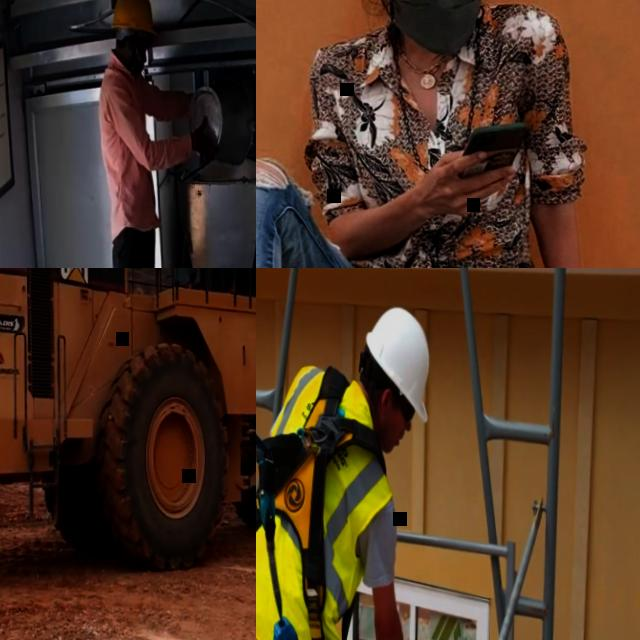Hardhat: (365, 304, 430, 420), (108, 0, 157, 36)
Mask: (389, 0, 479, 52), (131, 46, 144, 75)
NO-Mask: (382, 412, 401, 452)
NO-Safety Vest: (339, 26, 539, 268), (256, 358, 395, 640), (98, 66, 162, 236)
Person: (256, 0, 621, 268), (256, 298, 437, 640), (84, 0, 226, 268)
vehicle: (0, 268, 256, 580)
